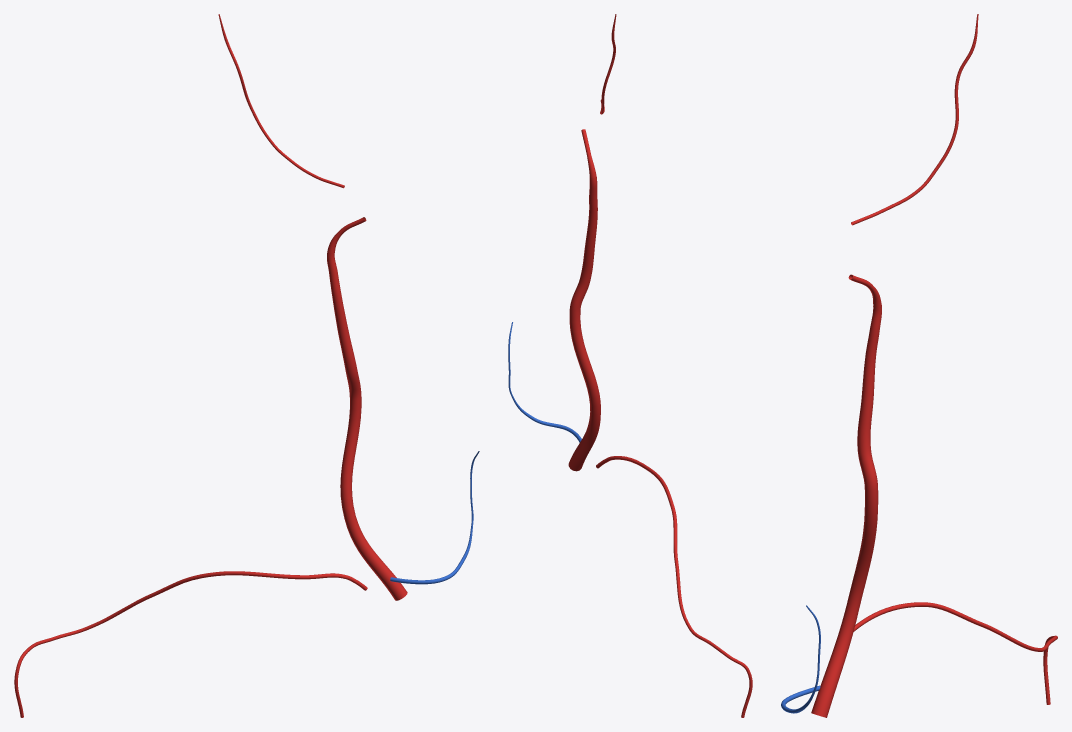
The model's file is circulatorio-external-jugular-vein-r.glb.
3 renders of one model, left to right at view 1: azimuth 30°, elevation 25°; view 2: azimuth 150°, elevation 25°; view 3: azimuth 270°, elevation 25°, orthographic. The views are drawn at different scales.
Visible parts, largest first — view 1: External jugular vein.r, Suprascapular vein.r, Posterior auricular vein.r; view 2: External jugular vein.r, Suprascapular vein.r, Anterior jugular vein.r; view 3: External jugular vein.r, Suprascapular vein.r, Posterior auricular vein.r, Anterior jugular vein.r.
Part boxes in pixels (x1,y1,x2,y2): External jugular vein.r: (327,251,407,600); Suprascapular vein.r: (14,571,367,717); Posterior auricular vein.r: (218,14,344,188); External jugular vein.r: (568,177,600,471); Suprascapular vein.r: (596,456,752,717); Anterior jugular vein.r: (508,322,581,442); External jugular vein.r: (811,305,881,717); Suprascapular vein.r: (853,602,1057,704); Posterior auricular vein.r: (851,14,978,225); Anterior jugular vein.r: (781,605,820,713).
Bounding box in the file's own units: 0.1409 × 0.2561 × 0.0821.
